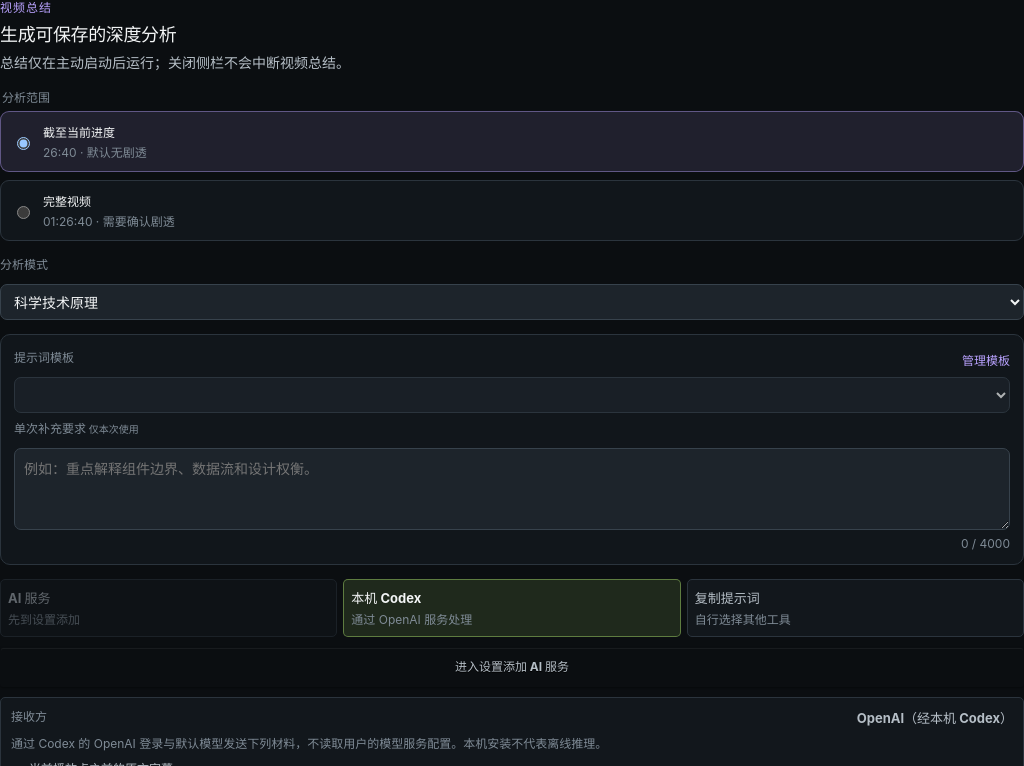
Scenario: SummarySetup › requires an explicit spoiler confirmation for full-video analysis
Click the text "完整视频".
click(67, 202)  # box [43, 194, 91, 209]
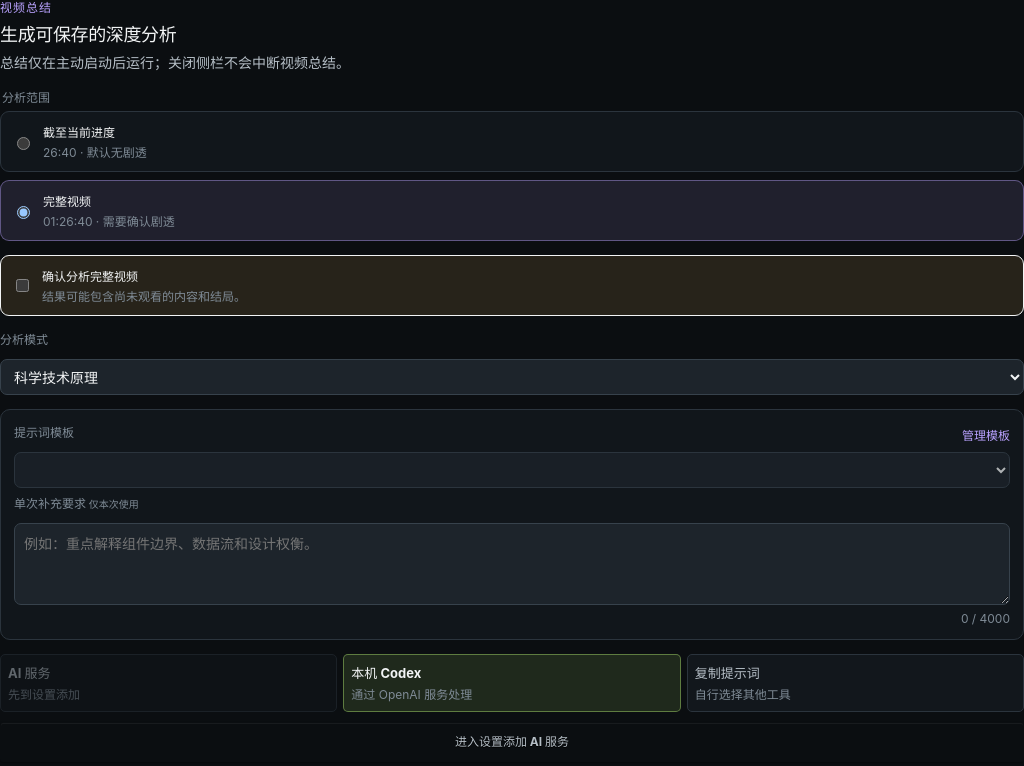
Click the checkbox labelled "确认分析完整视频 结果可能包含尚未观看的内容和结局。".
click(22, 286)  # box [16, 279, 29, 292]
(page scrolled)
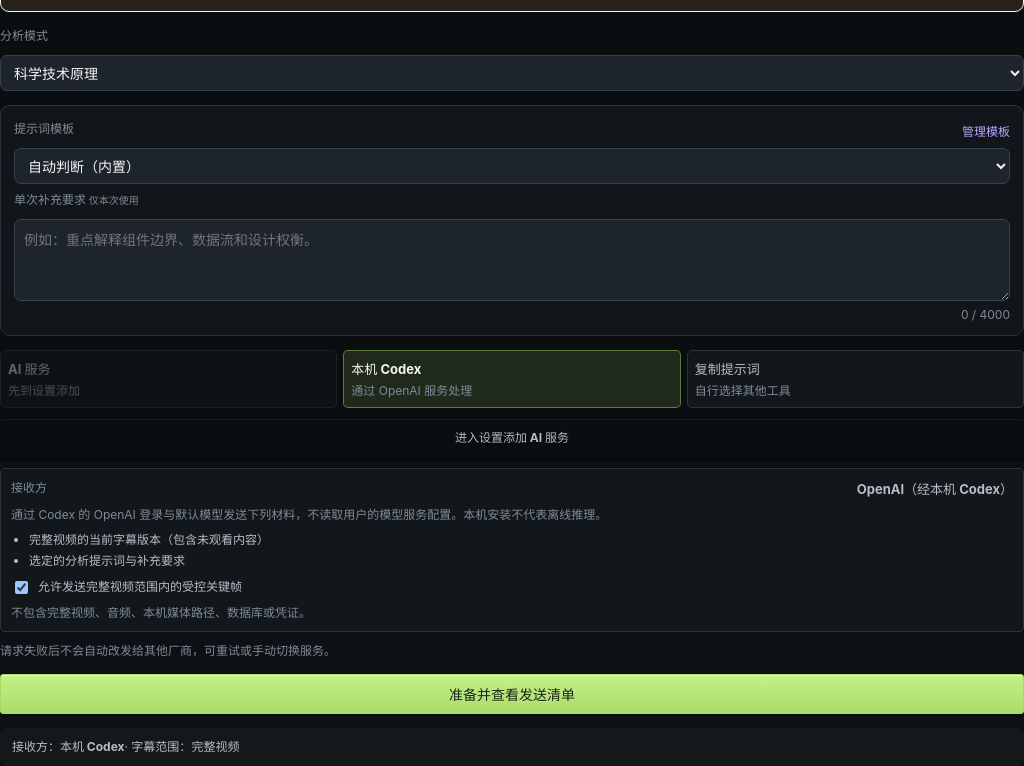
Check: the button "准备并查看发送清单" is enabled, box [0, 674, 1023, 714]
